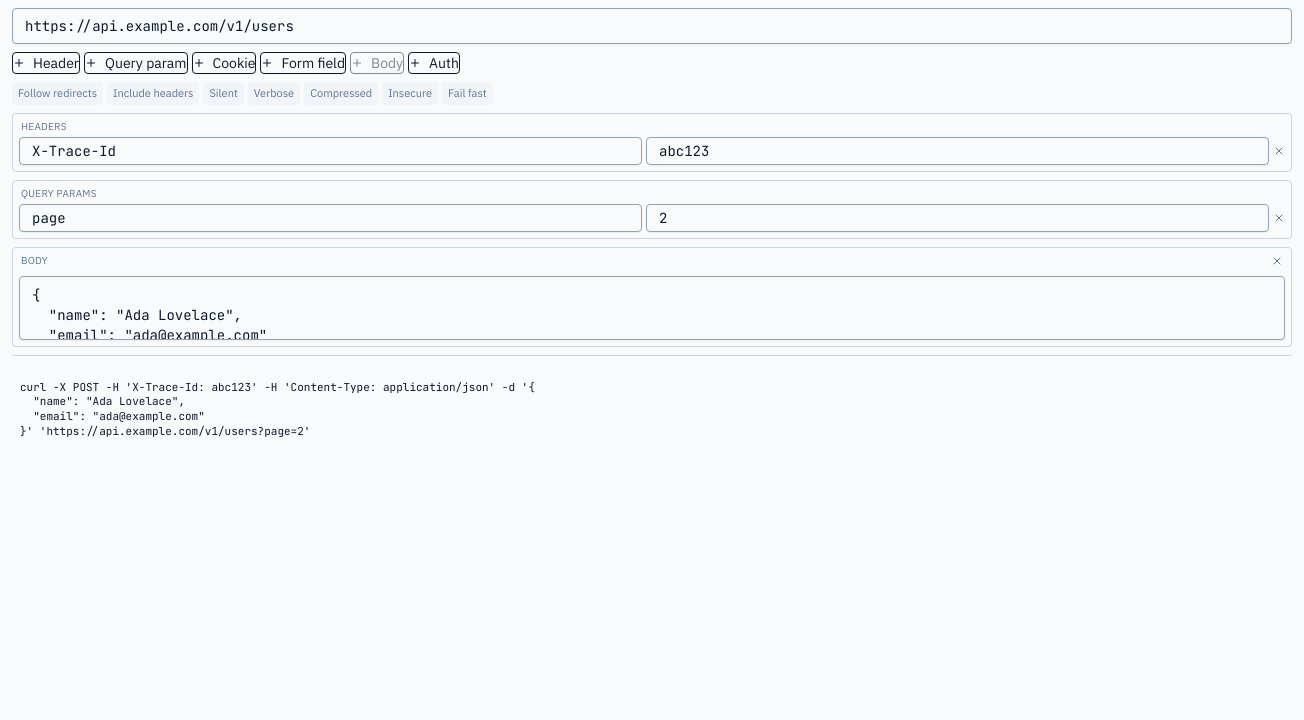
Test: CurlBuilderWidget › combines several cookies into one -b flag
Click the button "Cookie" at (224, 63), box [192, 52, 256, 74]
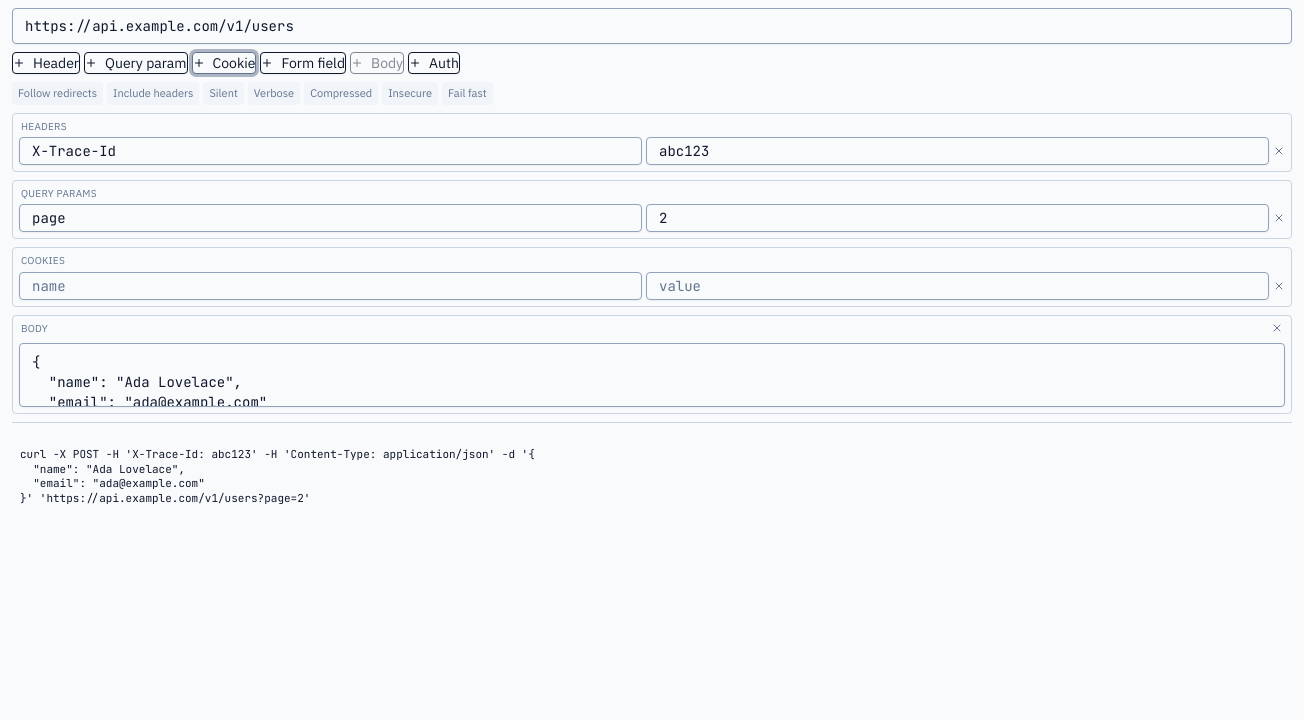
Click the button "Cookie" at (224, 63), box [192, 52, 256, 74]
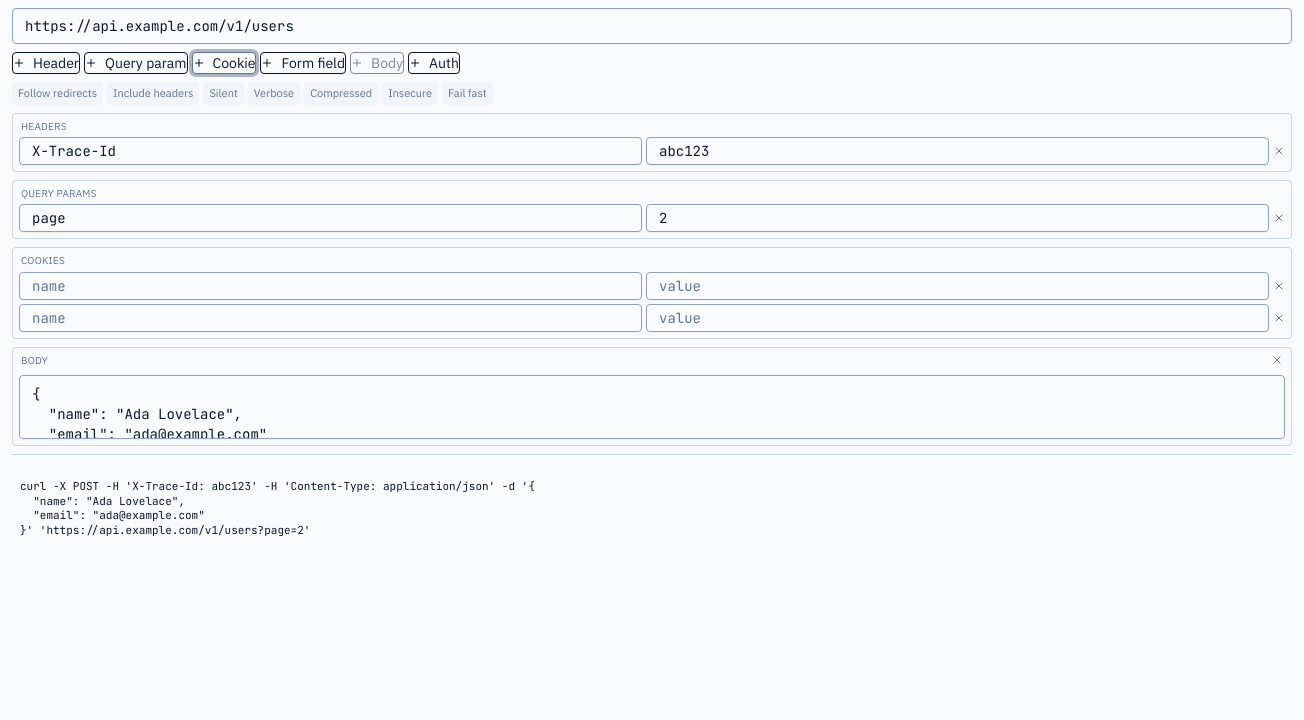
Type "session" into the field named "Cookie 1 name" at (330, 286), box [19, 272, 642, 300]
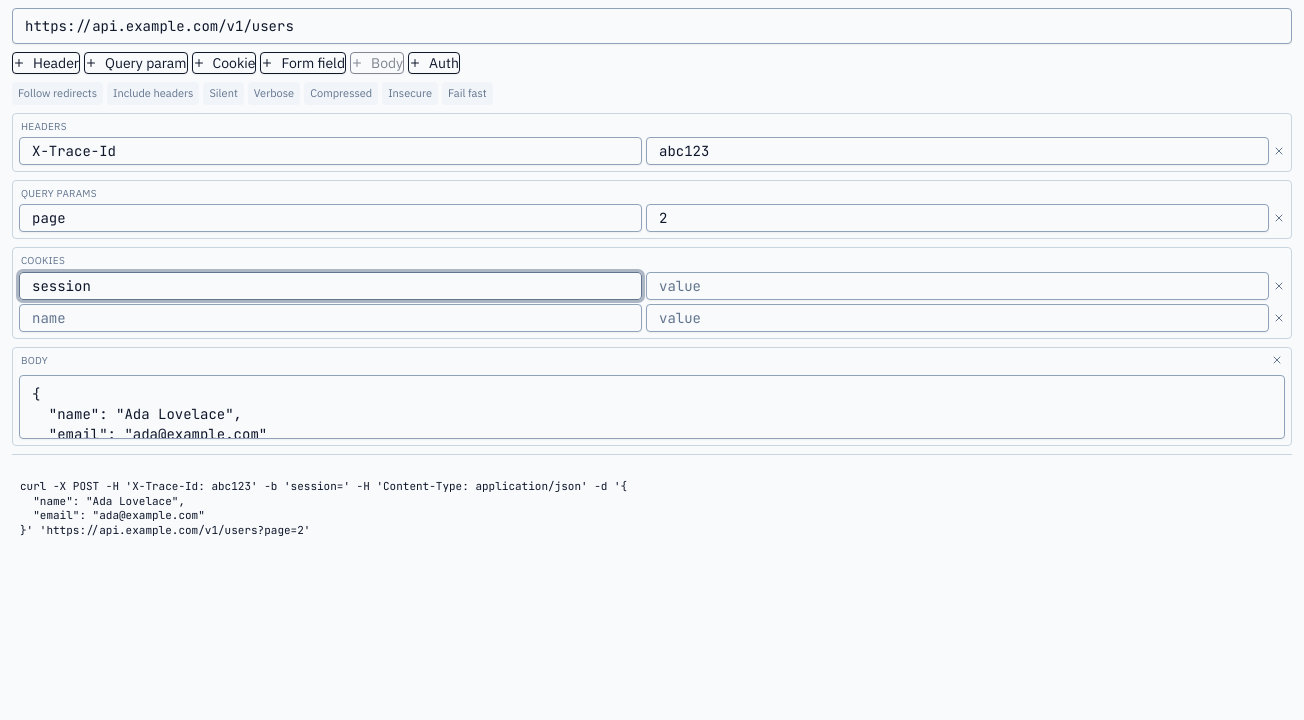
Type "theme" into the field named "Cookie 2 name" at (330, 318), box [19, 304, 642, 332]
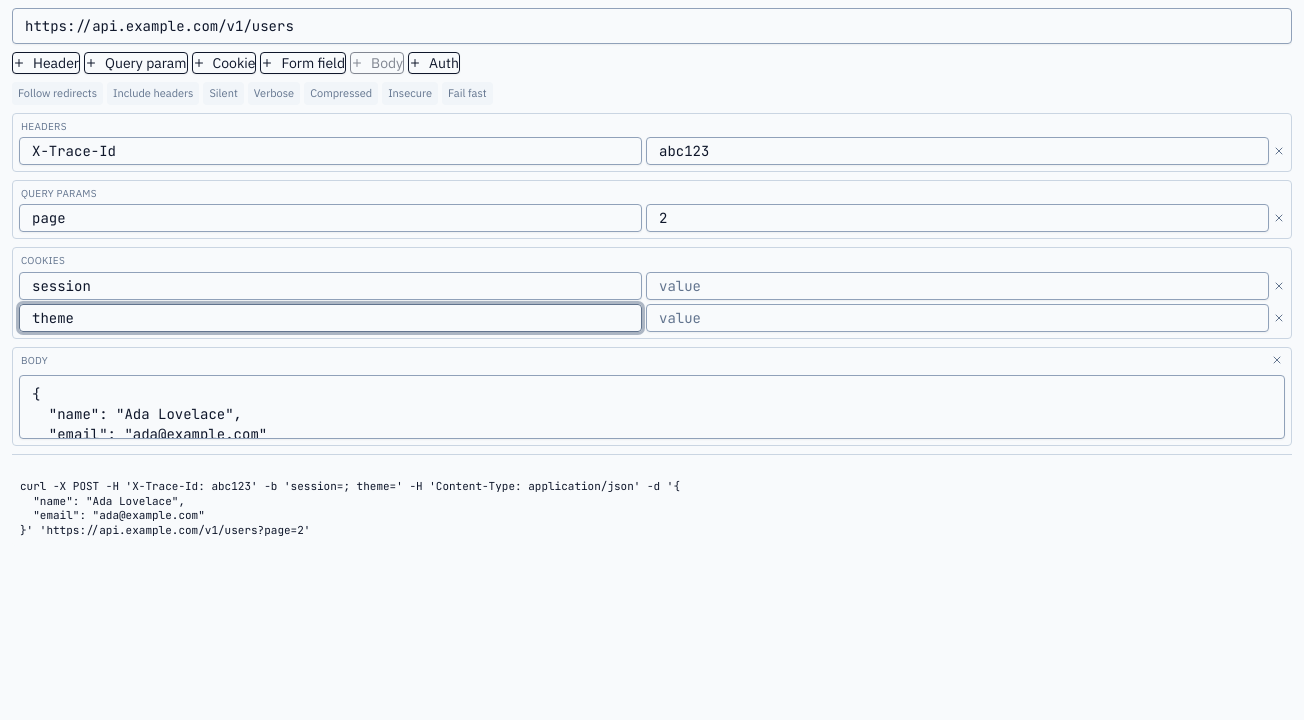
Expected: the text "curl " shows "-b 'session=; theme='", [20, 479, 680, 537]
